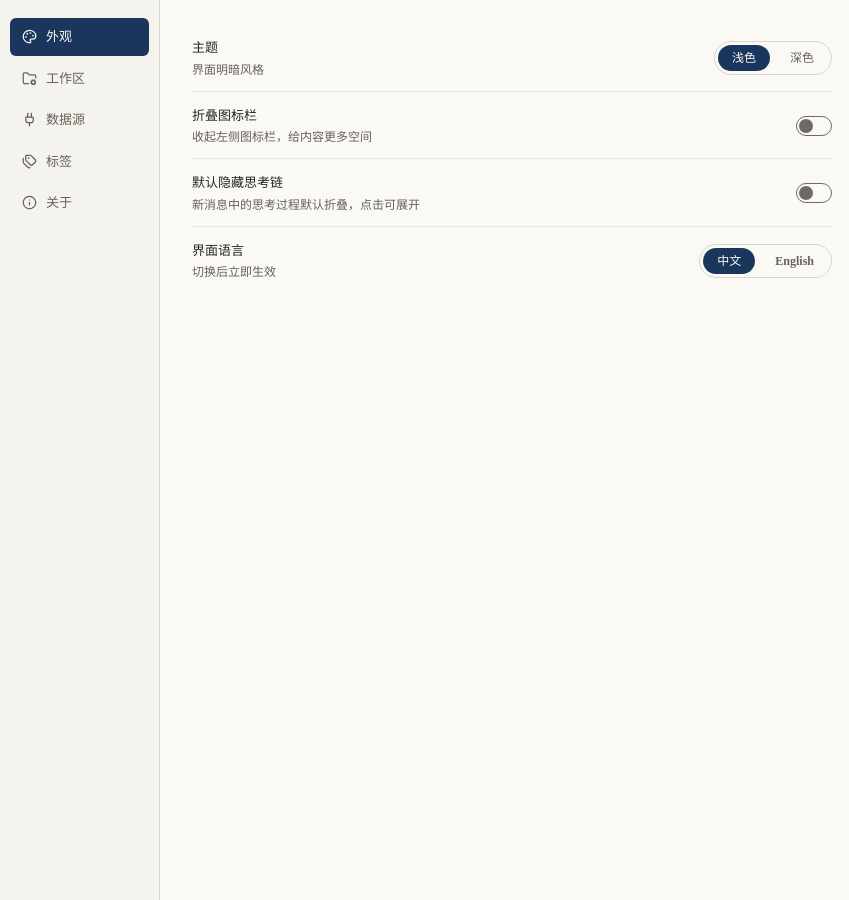
it: 设置页:工作区组 › 最近工作区:渲染路径 basename,激活项(首项)无移除按钮,其余项点「移除」调 workspace.remove 并刷新列表
This screenshot has width=849, height=900.
Click the button "工作区": (80, 78) [10, 60, 149, 97]
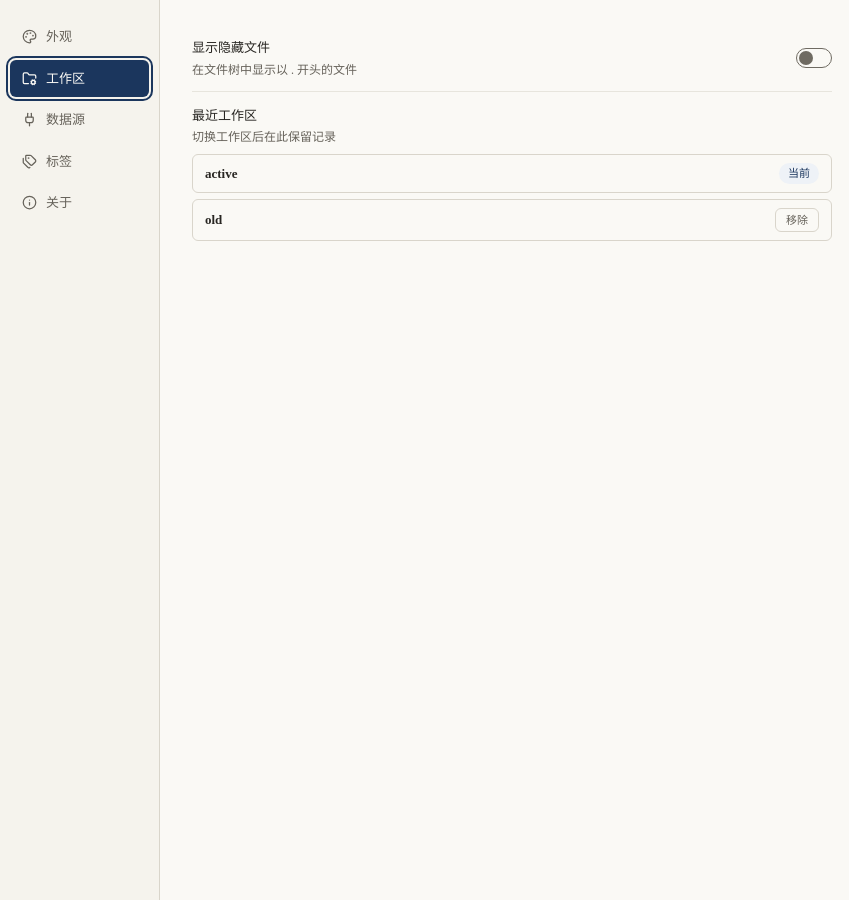
expect the text "active" is shown: met, box [205, 166, 238, 180]
expect the text "当前" is shown: met, box [779, 163, 819, 184]
expect the text "old" is shown: met, box [205, 212, 222, 227]
Click the button "移除": (797, 220) [775, 208, 819, 232]
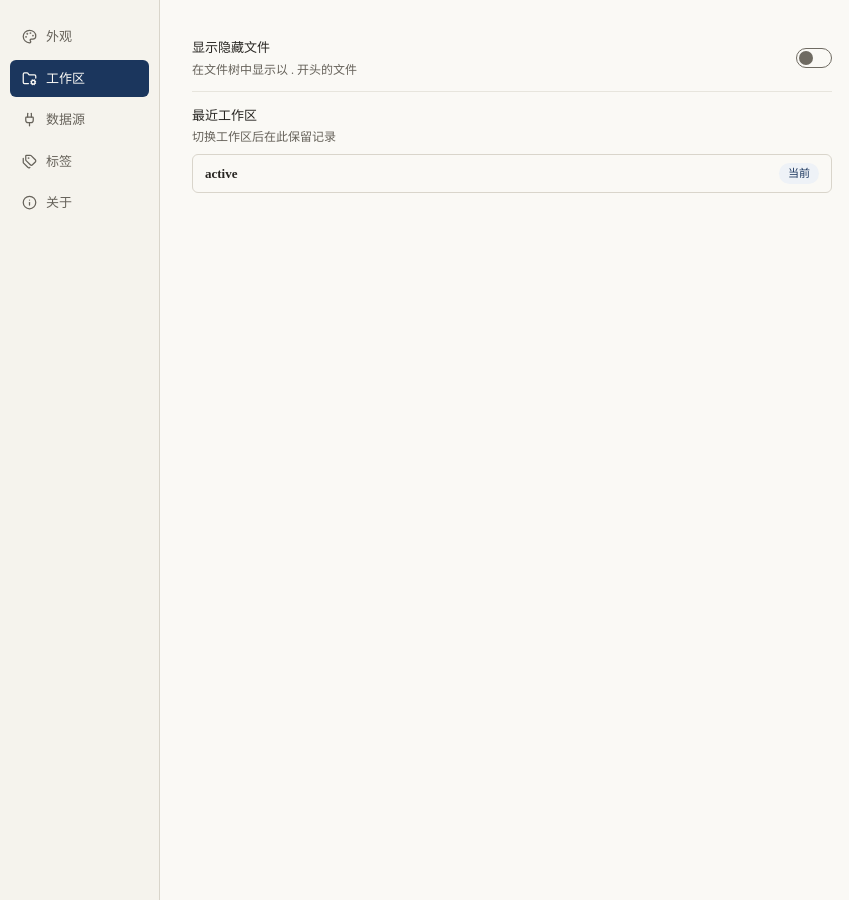
expect the text "active" is shown: met, box [205, 166, 238, 180]
expect the text "old" is gone: met
